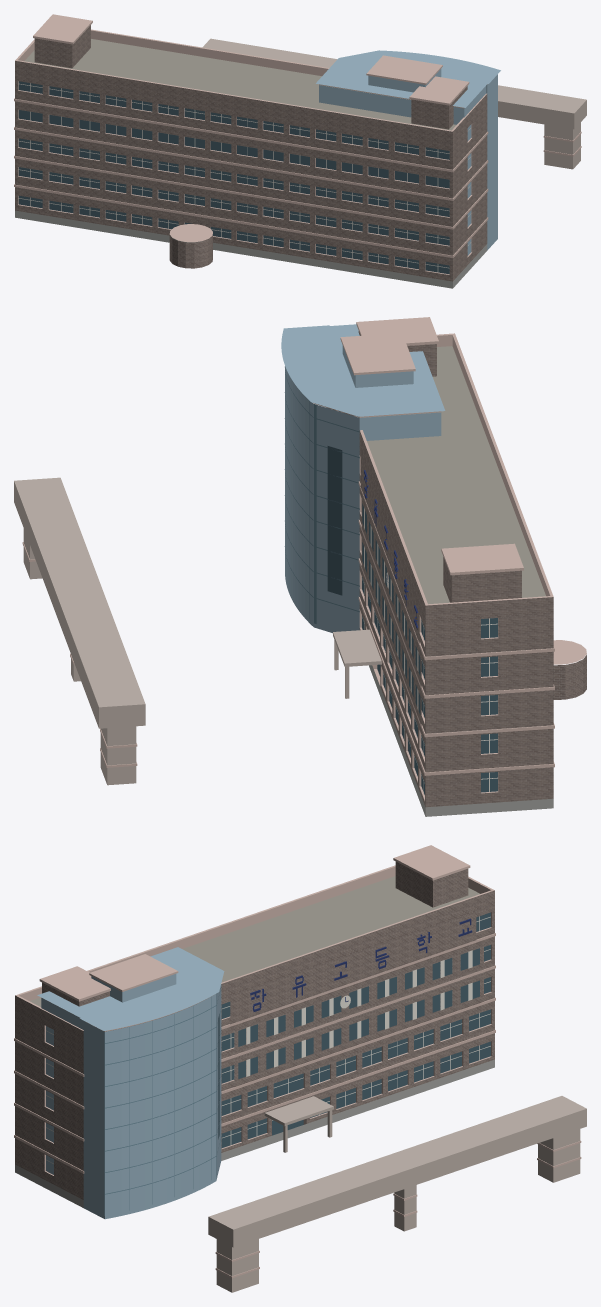
3 renders of one model, top to bottom at view 1: azimuth 30°, elevation 25°; view 2: azimuth 150°, elevation 25°; view 3: azimuth 270°, elevation 25°, orthographic. The views are drawn at different scales.
Visible parts, largest first — view 1: wing4__wall-plaster, wing4__brick, wing4__trim-concrete, wing4__glass, wing4__roof, wing4__tower-plaster, wing4__canopy-concrete, wing4__base-stone, wing4__frame; view 2: wing4__brick, wing4__tower-plaster, wing4__roof, wing4__canopy-concrete, wing4__trim-concrete, wing4__wall-plaster, wing4__glass, wing4__base-stone, wing4__tower-seam, wing4__frame; view 3: wing4__tower-plaster, wing4__wall-plaster, wing4__canopy-concrete, wing4__brick, wing4__trim-concrete, wing4__glass, wing4__roof, wing4__base-stone, wing4__frame, wing4__tower-seam, wing4__lettering-sign.
Part boxes in pixels (<box>): wing4__wall-plaster: <box>76,70,391,271</box>; wing4__brick: <box>15,25,487,281</box>; wing4__trim-concrete: <box>14,14,581,274</box>; wing4__glass: <box>18,81,449,274</box>; wing4__roof: <box>24,39,456,130</box>; wing4__tower-plaster: <box>316,50,500,255</box>; wing4__canopy-concrete: <box>202,38,586,169</box>; wing4__base-stone: <box>15,210,487,288</box>; wing4__frame: <box>18,83,471,272</box>; wing4__brick: <box>328,331,553,807</box>; wing4__tower-plaster: <box>281,324,445,633</box>; wing4__roof: <box>358,346,545,604</box>; wing4__canopy-concrete: <box>14,477,381,785</box>; wing4__trim-concrete: <box>22,317,586,800</box>; wing4__wall-plaster: <box>344,413,586,769</box>; wing4__glass: <box>327,446,497,794</box>; wing4__base-stone: <box>369,665,553,816</box>; wing4__tower-seam: <box>284,370,359,623</box>; wing4__frame: <box>361,508,497,793</box>; wing4__tower-plaster: <box>37,947,224,1219</box>; wing4__wall-plaster: <box>143,910,483,1152</box>; wing4__canopy-concrete: <box>208,1096,586,1292</box>; wing4__brick: <box>15,861,494,1199</box>; wing4__trim-concrete: <box>14,845,581,1278</box>; wing4__glass: <box>218,912,490,1147</box>; wing4__roof: <box>30,876,479,1025</box>; wing4__base-stone: <box>15,1059,494,1207</box>; wing4__frame: <box>46,916,490,1163</box>; wing4__tower-seam: <box>104,987,221,1215</box>; wing4__lettering-sign: <box>250,918,472,1011</box>.
Size of the model in its own units: 64.18 by 22.62 by 57.91.
Materials: 12 (2 with a texture image).
